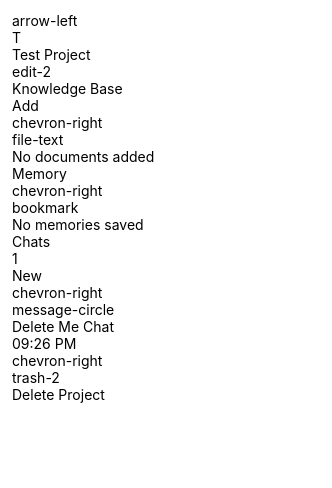
ProjectDetailScreen › delete chat › shows confirmation alert when delete swipe action is pressed
Step 1. Click the text "trash-2" → (36, 378), box [12,369,60,386]
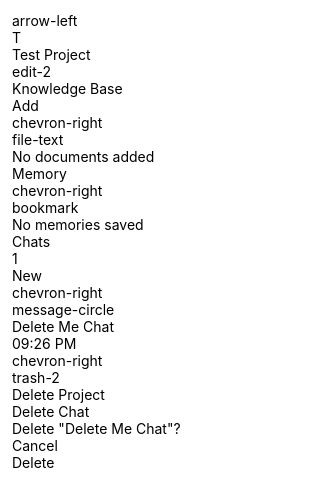
Check: the element with test id "custom-alert" is shown, box [12,403,181,471]
Check: the text with test id "alert-title" reads "Delete Chat", box [12,403,89,420]
